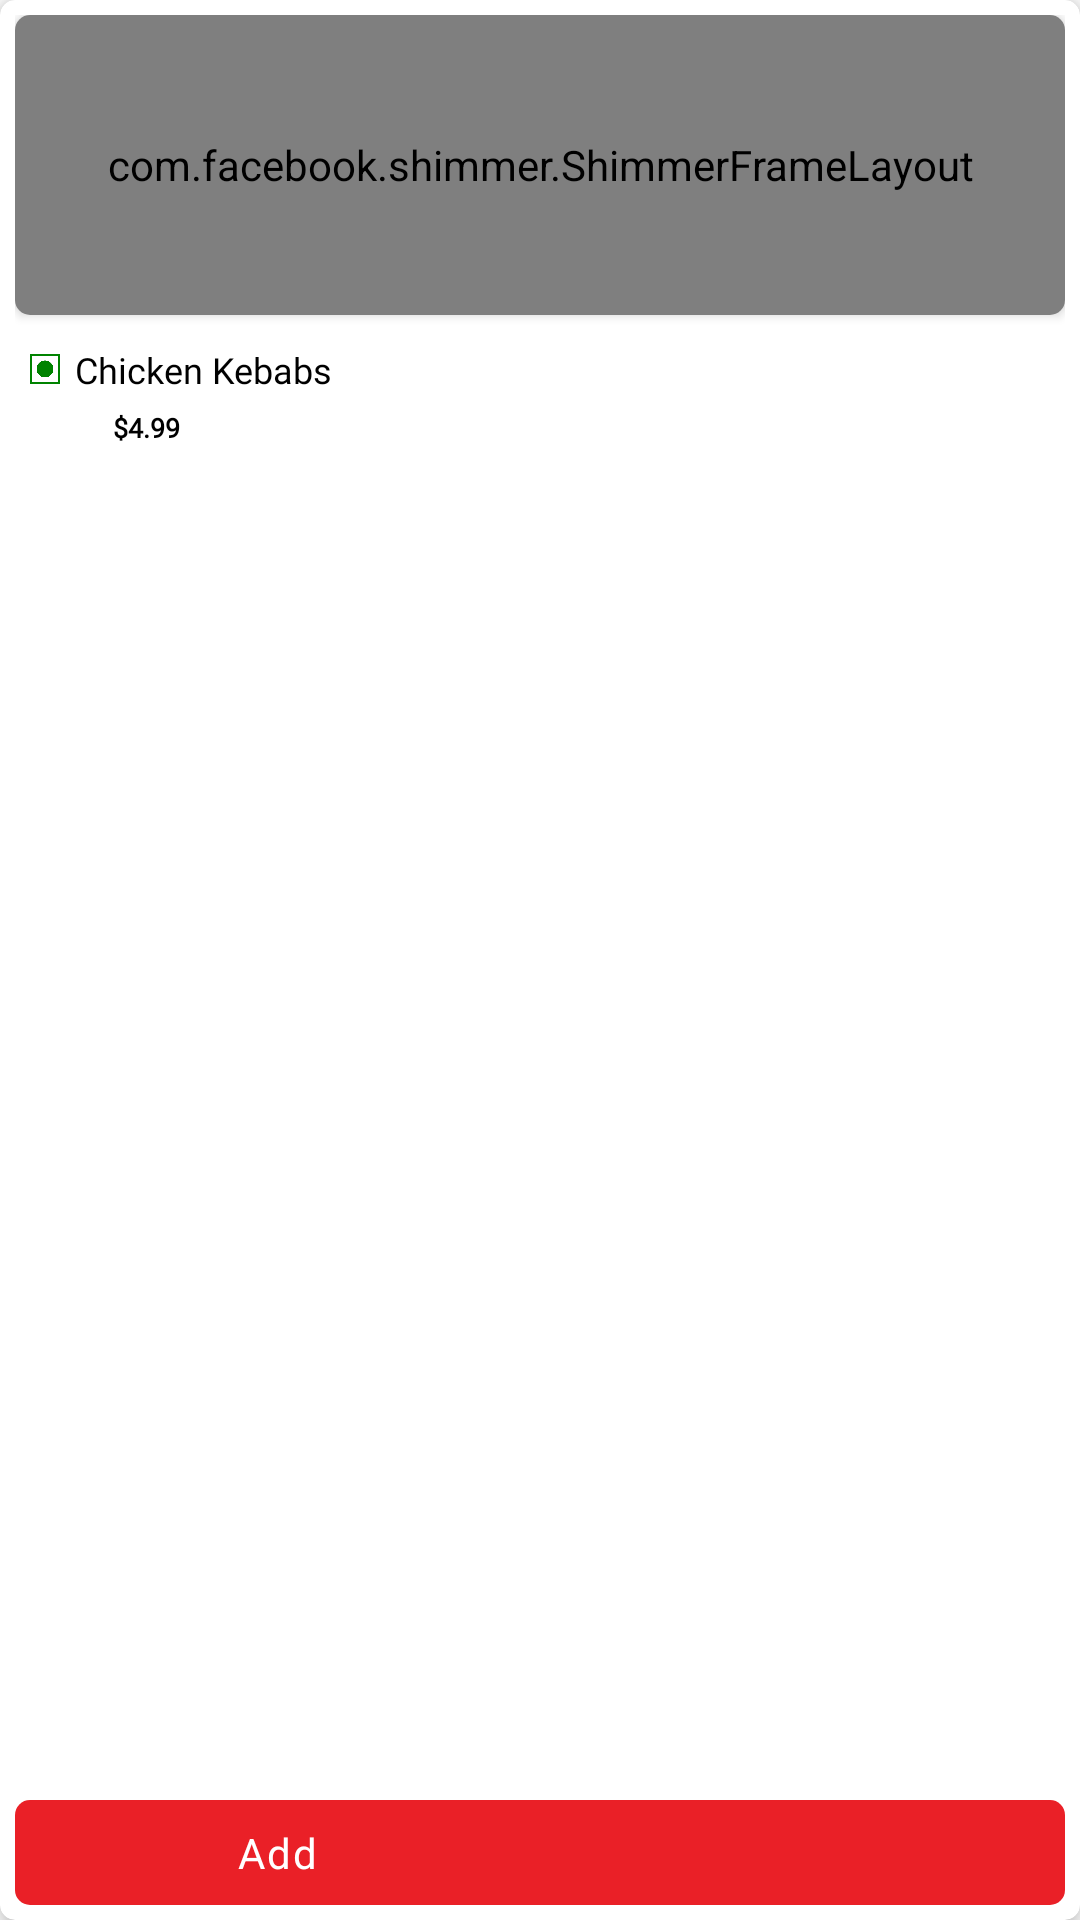

Named icons in this screenshot (1080px×1920px) and their bounding boxes, {"left": x1, "top": y1, "right": x2, "bottom": y2}:
veg: {"left": 30, "top": 354, "right": 60, "bottom": 384}
